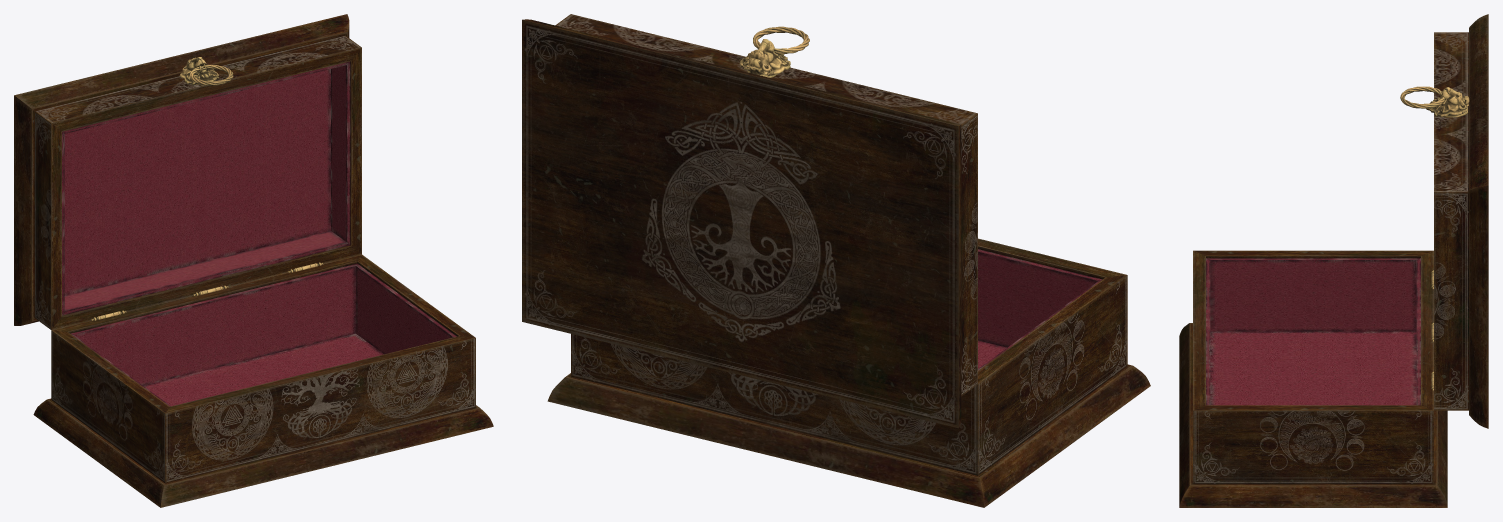
Rendered from CajaPlaceHolder.fbx.
3 renders of one model, left to right at view 1: azimuth 30°, elevation 25°; view 2: azimuth 150°, elevation 25°; view 3: azimuth 270°, elevation 25°, orthographic. The views are drawn at different scales.
Visible parts, largest first — view 1: A Delicate Box.001; view 2: A Delicate Box.001; view 3: A Delicate Box.001.
Boxes of the visible parts, box(x1,y1,x2,y2) form: A Delicate Box.001: box(14, 14, 493, 507); A Delicate Box.001: box(522, 14, 1150, 507); A Delicate Box.001: box(1179, 14, 1488, 507).
Size of the model in its own units: 148 by 135 by 113.
